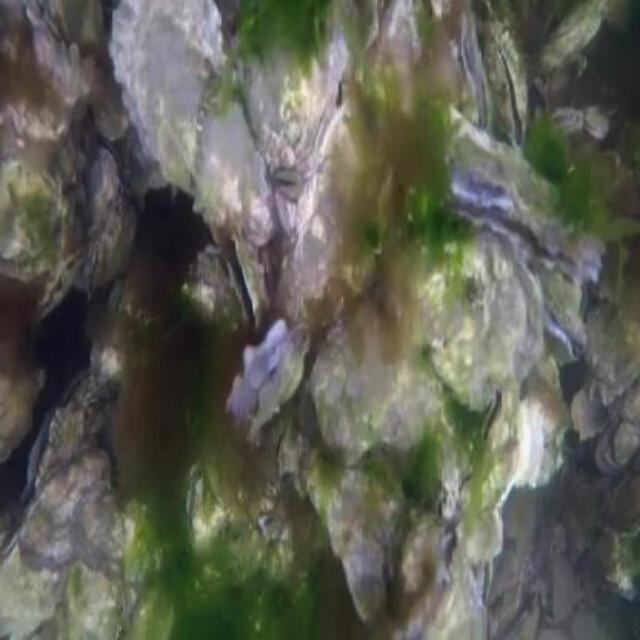Oyster-Closed: (316, 212, 546, 458), (296, 447, 467, 640), (0, 446, 128, 640), (107, 0, 229, 188), (230, 0, 352, 174), (190, 87, 278, 243), (0, 154, 74, 278), (582, 291, 640, 405)
Oyster-Open: (438, 100, 604, 288), (18, 360, 124, 496), (218, 316, 314, 442), (351, 0, 433, 114), (476, 5, 540, 147), (28, 0, 108, 108), (80, 138, 134, 282), (215, 226, 281, 332), (440, 10, 498, 130), (178, 457, 245, 557), (532, 270, 594, 370), (538, 0, 606, 76), (589, 397, 640, 479), (31, 247, 84, 317), (464, 380, 516, 446)
